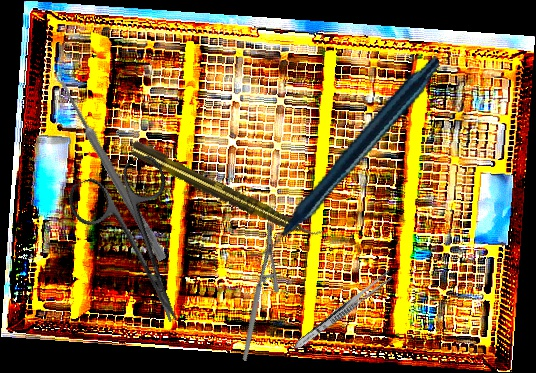Dressing Forceps: (290, 267, 396, 354)
Handpiece: (217, 53, 471, 260), (127, 138, 324, 247)
Iris Scissors: (63, 152, 216, 341)
Needle Holder: (202, 224, 312, 362)
Surgical Spoon: (51, 71, 169, 262)
